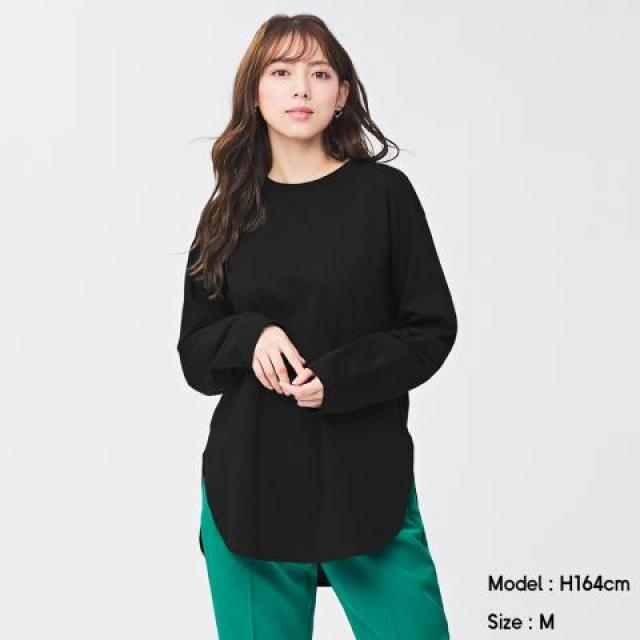plain: (174, 160, 460, 560)
